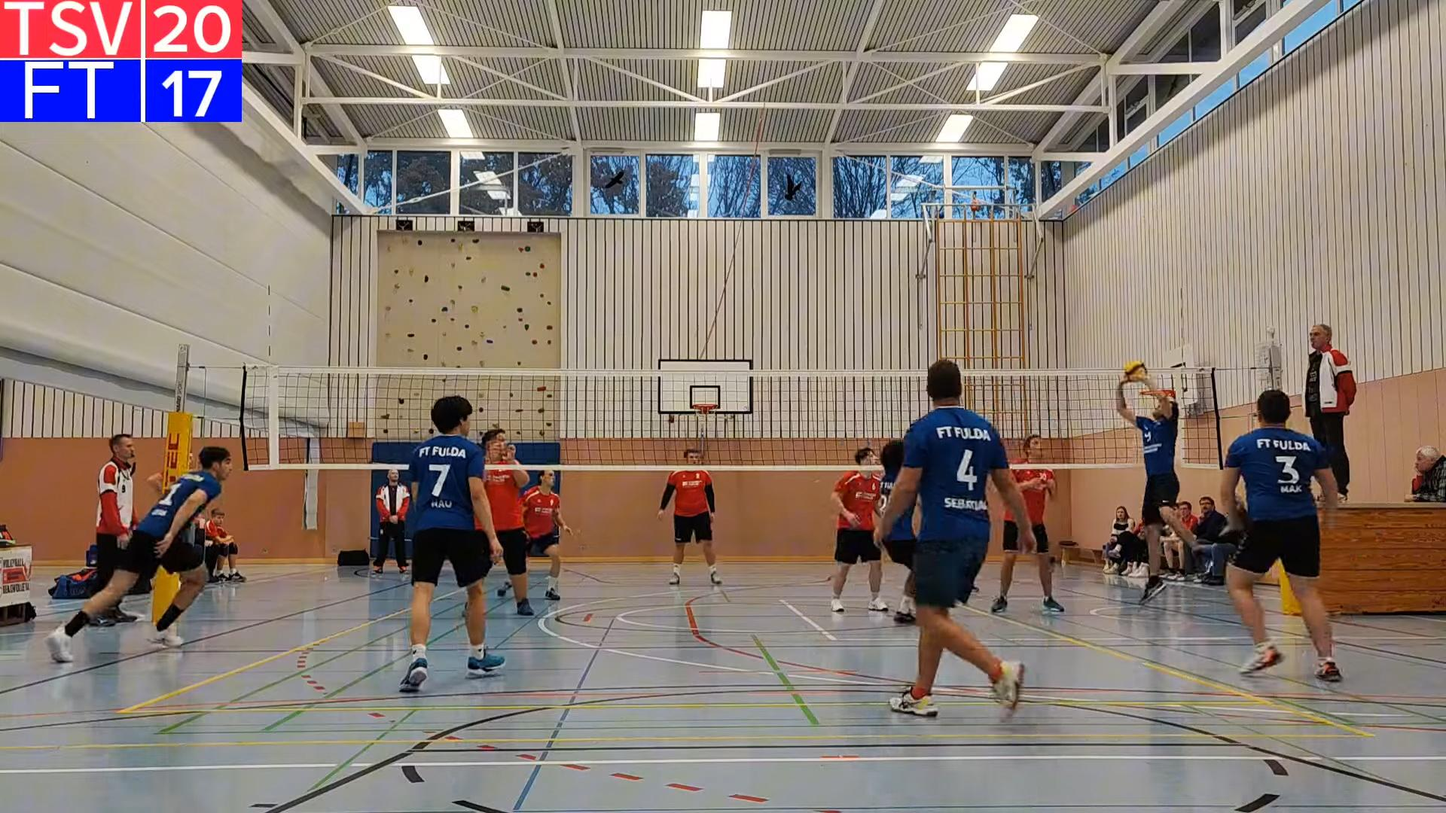alzata: (1114, 378, 1215, 602)
